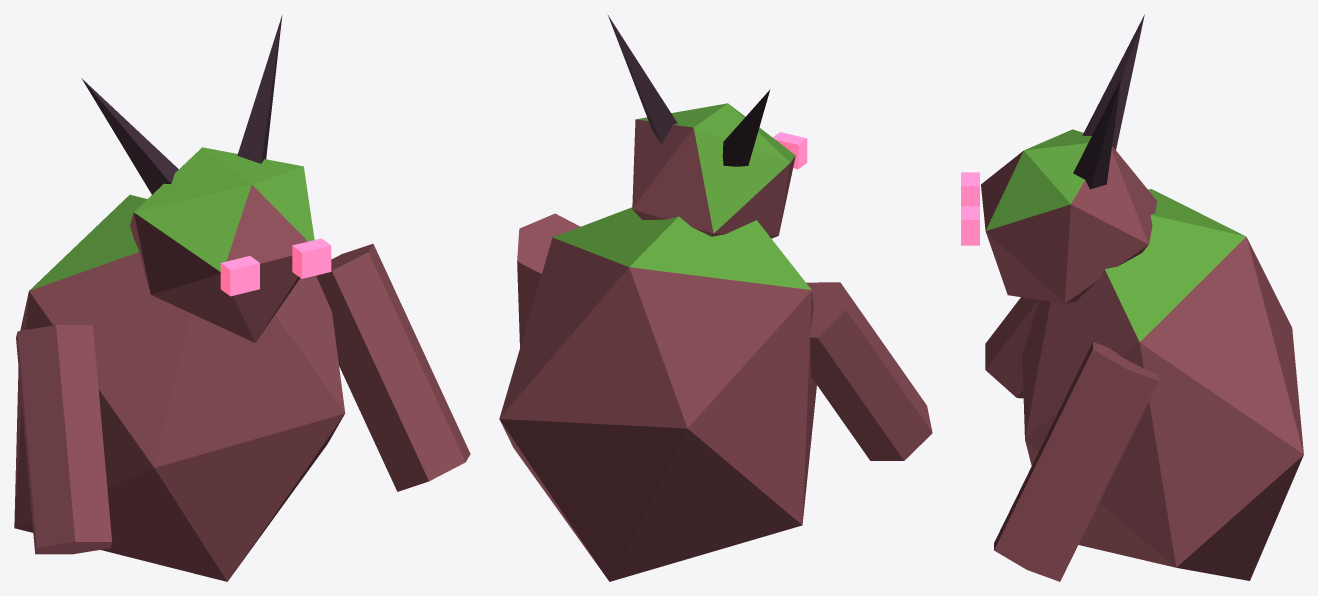
Rendered from shambler.glb.
3 renders of one model, left to right at view 1: azimuth 30°, elevation 25°; view 2: azimuth 150°, elevation 25°; view 3: azimuth 270°, elevation 25°, orthographic. The views are drawn at different scales.
Visible parts, largest first — view 1: Body; view 2: Body; view 3: Body.
Part boxes in pixels (bbox=[...]): Body: bbox=[14, 15, 470, 581]; Body: bbox=[499, 14, 932, 581]; Body: bbox=[961, 14, 1303, 581].
Bounding box in the file's own units: 1.04 × 1.25 × 0.7275.
